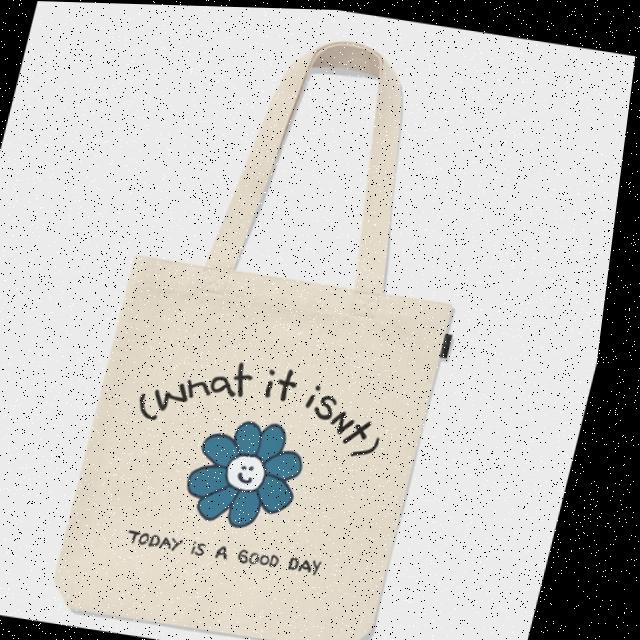ecobag: (29, 6, 545, 640)
